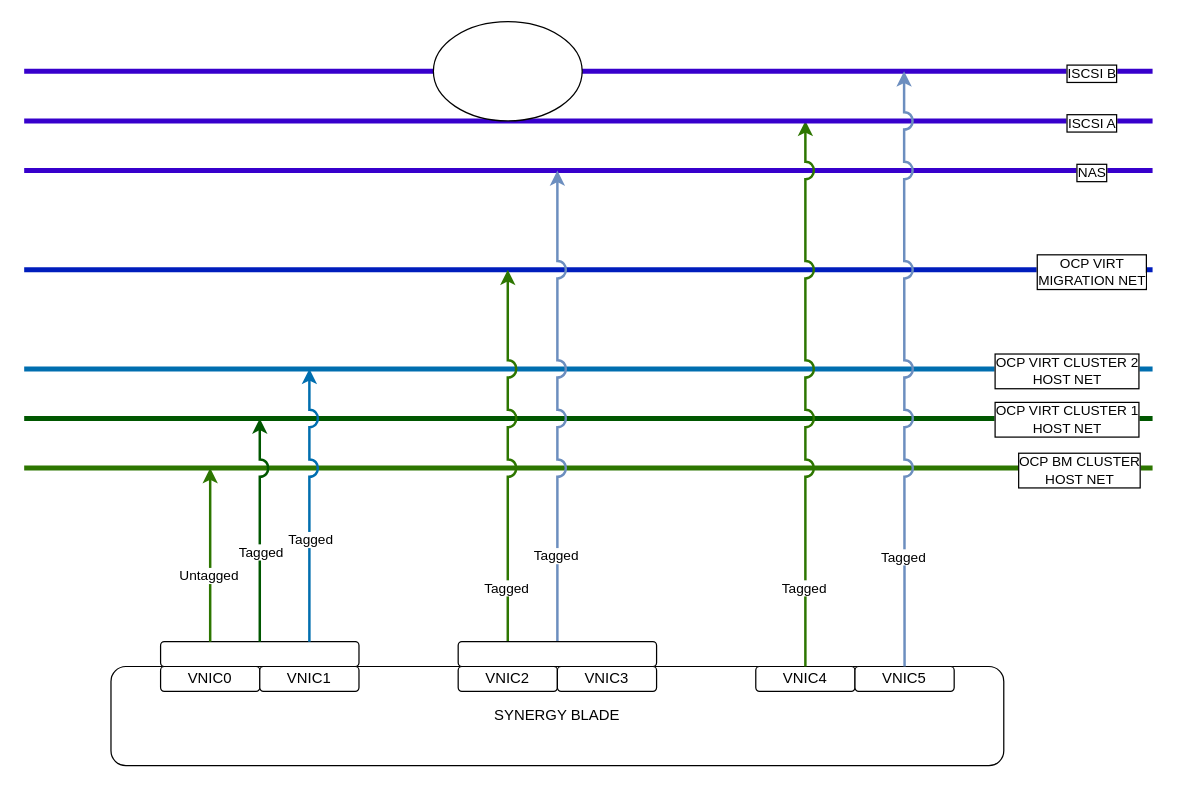
The diagram is 1177 pixels wide and 787 high, and some of its shapes have lost their labels. Each missing label, with the centre of its shape:
"bond0" goes at (259,653).
"bond1" goes at (557,653).
